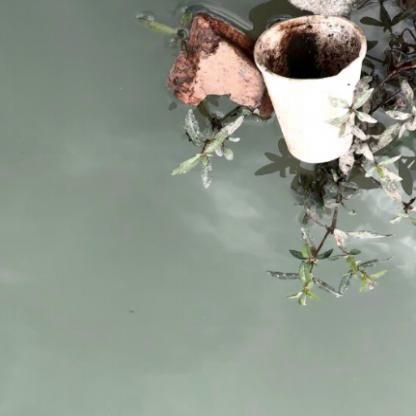Plastic: (247, 13, 367, 168)
